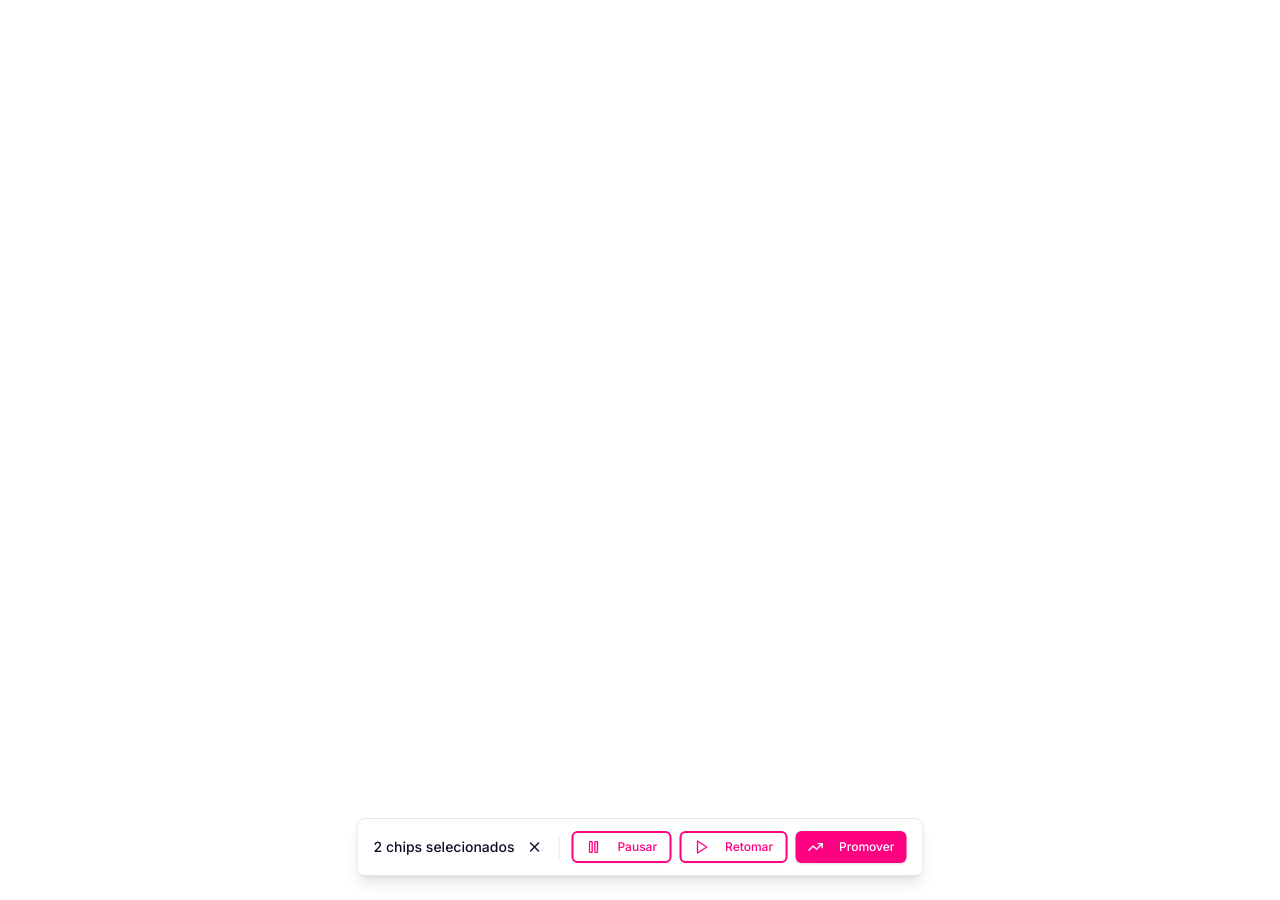
Test: ChipsBulkActions › confirmation dialogs › should show promote confirmation dialog
Click the button "Promover".
click(851, 847)  # box [795,831,906,863]
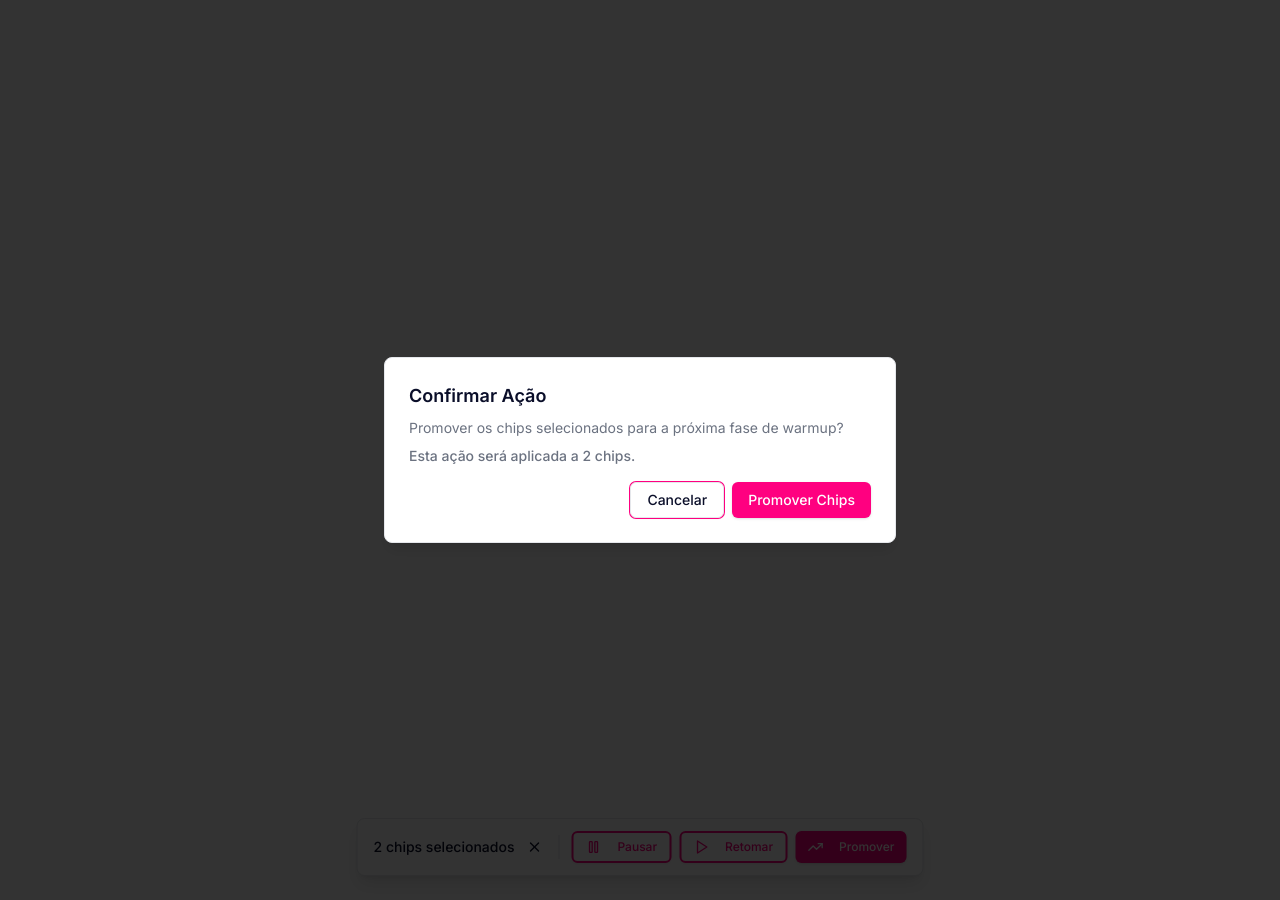
Expected: the heading "Confirmar Ação" is shown, [409,385,546,406]
Expected: the text "Promover os chips selecionados" is shown, [409,419,844,436]
